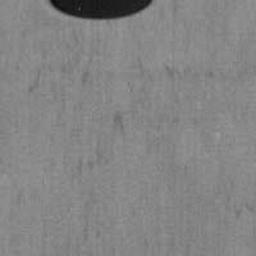Punching: (49, 0, 152, 20)
